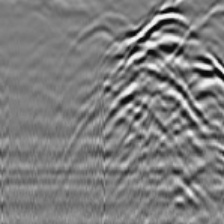cavities: (101, 6, 224, 169)
